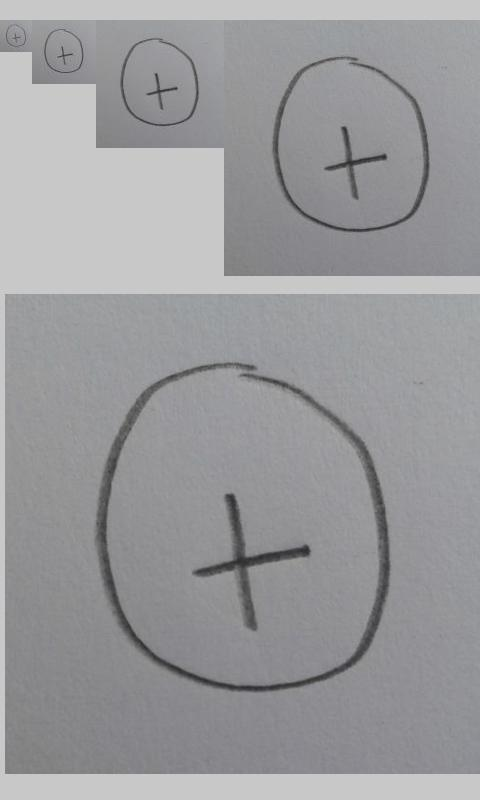button: (92, 358, 394, 696), (271, 54, 430, 234), (119, 37, 199, 127), (44, 29, 84, 74), (5, 24, 27, 48)
